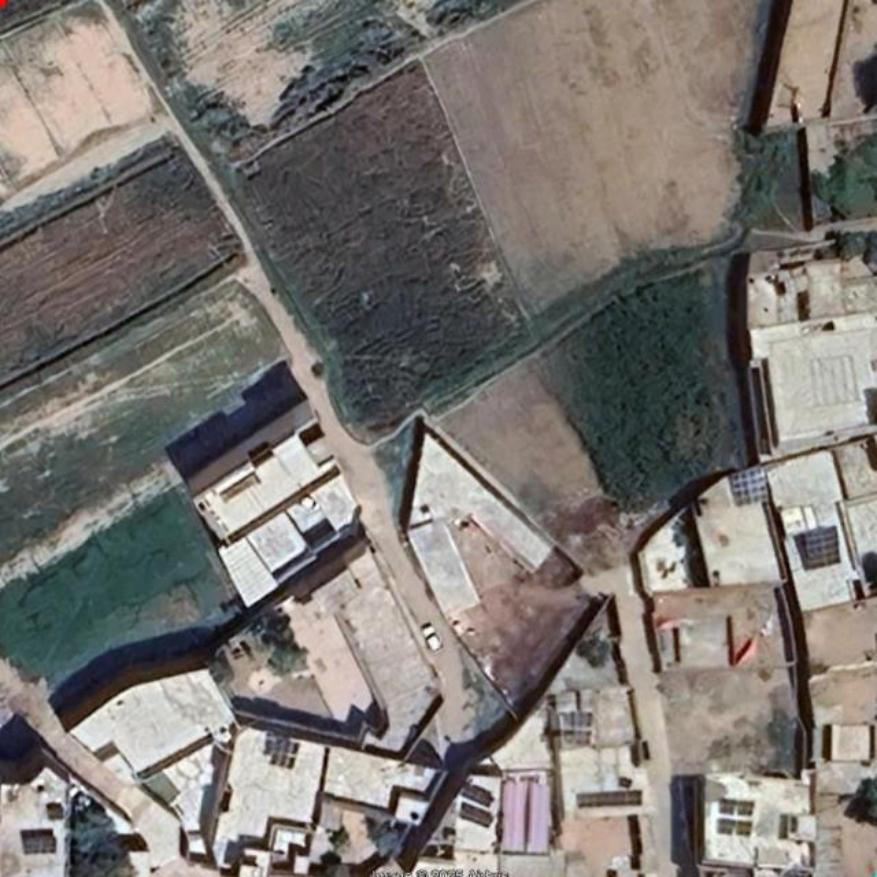Solarpanel: (804, 526, 840, 569), (731, 464, 768, 504), (578, 791, 641, 806), (458, 784, 495, 807), (21, 834, 57, 855), (458, 804, 491, 826)
